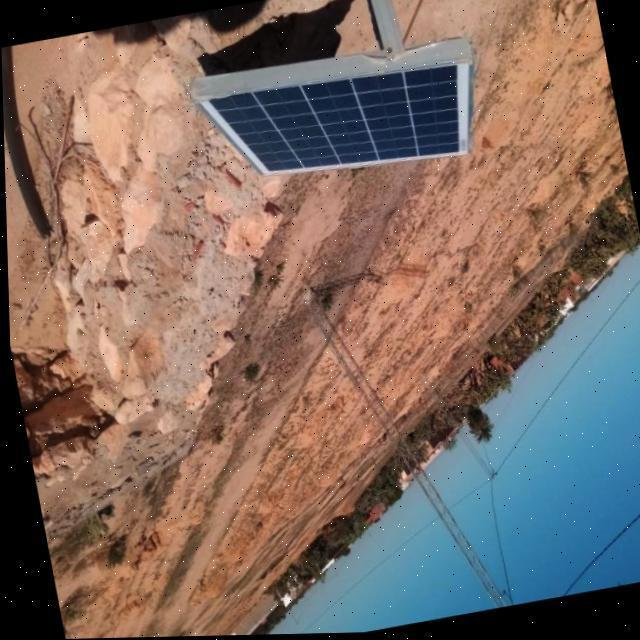Normal Solar Panel: (193, 52, 488, 202)
